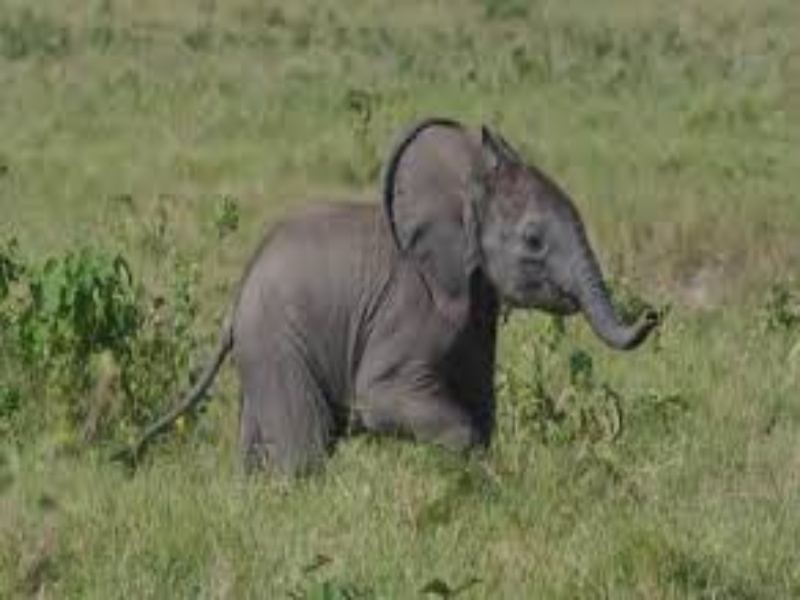elephant: (125, 118, 667, 478)
